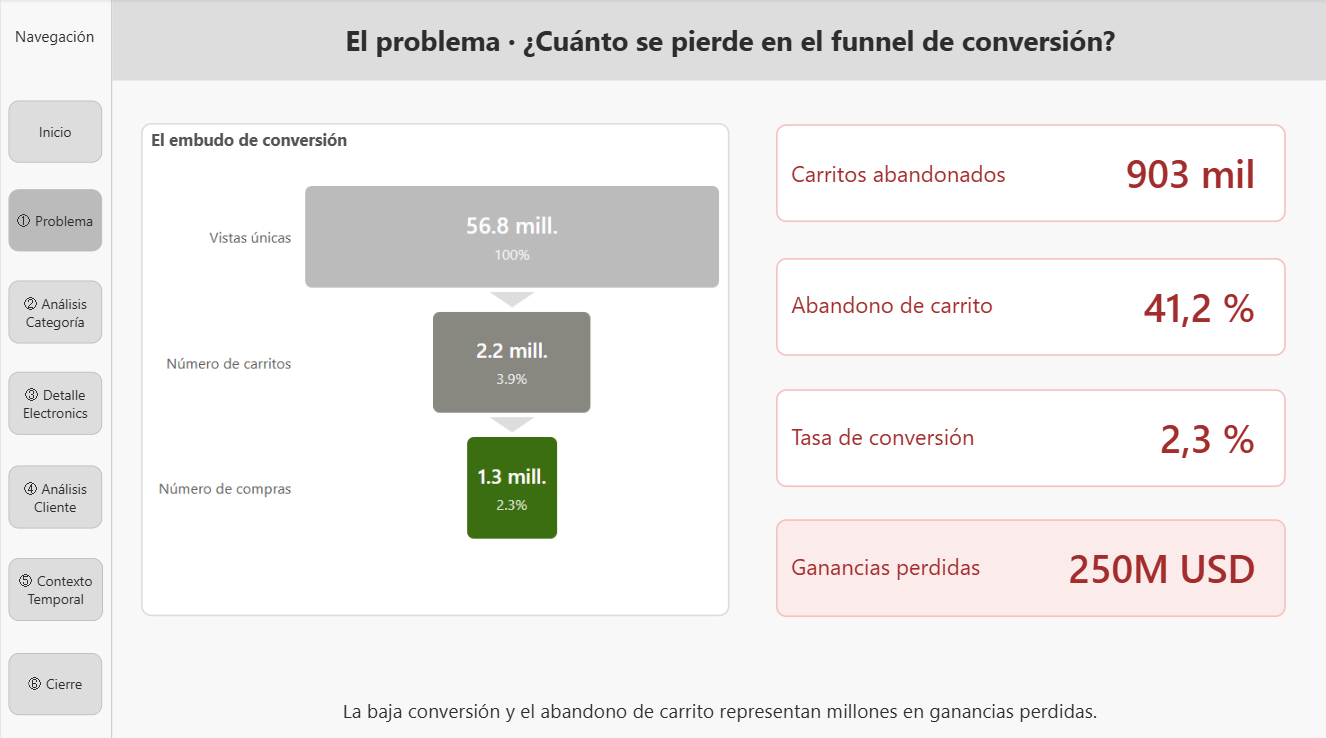

What the dashboard file says about the page in this screenshot:
{"tool":"powerbi","page":{"name":"Problema","canvas":[1280,720],"ordinal":1},"visuals":[{"type":"funnel","title":"El embudo de conversión","fields":{"Y":["Sum(agg_funnel_global.units)","Sum(agg_funnel_global.reached_cart)","Sum(agg_funnel_global.purchased)"]},"box":[134.8,121,568.3,476.3],"z":0},{"type":"shape","box":[0,0,213.6,720.2],"z":1000},{"type":"textbox","box":[3.7,22,96.4,36.6],"z":2000},{"type":"shape","box":[107.4,0,1172.7,79.6],"z":3000},{"type":"cardVisual","fields":{"Data":["agg_funnel_global.Tasa de Conversión"]},"box":[748.5,377.1,492.2,94.1],"z":4000},{"type":"cardVisual","fields":{"Data":["agg_funnel_global.03 Tasa de Abandono"]},"box":[748.5,250.4,492.2,94.1],"z":5000},{"type":"cardVisual","fields":{"Data":["agg_funnel_global.02 Carritos Abandonados"]},"box":[748.5,121.3,492.2,94.1],"z":6000},{"type":"cardVisual","fields":{"Data":["agg_funnel_global.04 Revenue en Juego"]},"box":[748.5,502.6,492.2,94.1],"z":7000},{"type":"textbox","box":[758.1,149.1,300.4,42.2],"z":8000},{"type":"textbox","box":[758.1,275.8,300.4,42.2],"z":9000},{"type":"textbox","box":[758.1,402.4,300.4,42.2],"z":10000},{"type":"textbox","box":[758.1,527.9,300.4,42.2],"z":11000},{"type":"image","box":[139.9,143.7,559.5,446.1],"z":12000},{"type":"actionButton","box":[7.3,98.9,90.3,59.8],"z":13000},{"type":"actionButton","box":[7.3,272.2,90.3,61],"z":14000},{"type":"actionButton","box":[7.3,540.8,91.6,61],"z":15000},{"type":"actionButton","box":[7.3,451.7,90.3,61],"z":16000},{"type":"actionButton","box":[7.3,632.3,90.3,59.8],"z":17000},{"type":"actionButton","box":[7.3,361.3,90.3,61],"z":18000},{"type":"actionButton","box":[7.3,184.3,90.3,59.8],"z":19000},{"type":"shape","box":[106.9,655.3,1173.1,64.7],"z":20000}]}

Visuals, with their boxes on the page's 1280x720 design canvas (x1, y1, x2, y2). These are canvas units, not pixel positions in the 1326x738 screenshot, which may show the page scaled, cropped or inside an application window:
"El embudo de conversión" funnel: [left=135, top=121, right=703, bottom=597]
shape: [left=0, top=0, right=214, bottom=720]
textbox: [left=4, top=22, right=100, bottom=59]
shape: [left=107, top=0, right=1280, bottom=80]
cardVisual - agg_funnel_global.Tasa de Conversión: [left=748, top=377, right=1241, bottom=471]
cardVisual - agg_funnel_global.03 Tasa de Abandono: [left=748, top=250, right=1241, bottom=344]
cardVisual - agg_funnel_global.02 Carritos Abandonados: [left=748, top=121, right=1241, bottom=215]
cardVisual - agg_funnel_global.04 Revenue en Juego: [left=748, top=503, right=1241, bottom=597]
textbox: [left=758, top=149, right=1058, bottom=191]
textbox: [left=758, top=276, right=1058, bottom=318]
textbox: [left=758, top=402, right=1058, bottom=445]
textbox: [left=758, top=528, right=1058, bottom=570]
image: [left=140, top=144, right=699, bottom=590]
actionButton: [left=7, top=99, right=98, bottom=159]
actionButton: [left=7, top=272, right=98, bottom=333]
actionButton: [left=7, top=541, right=99, bottom=602]
actionButton: [left=7, top=452, right=98, bottom=513]
actionButton: [left=7, top=632, right=98, bottom=692]
actionButton: [left=7, top=361, right=98, bottom=422]
actionButton: [left=7, top=184, right=98, bottom=244]
shape: [left=107, top=655, right=1280, bottom=720]
